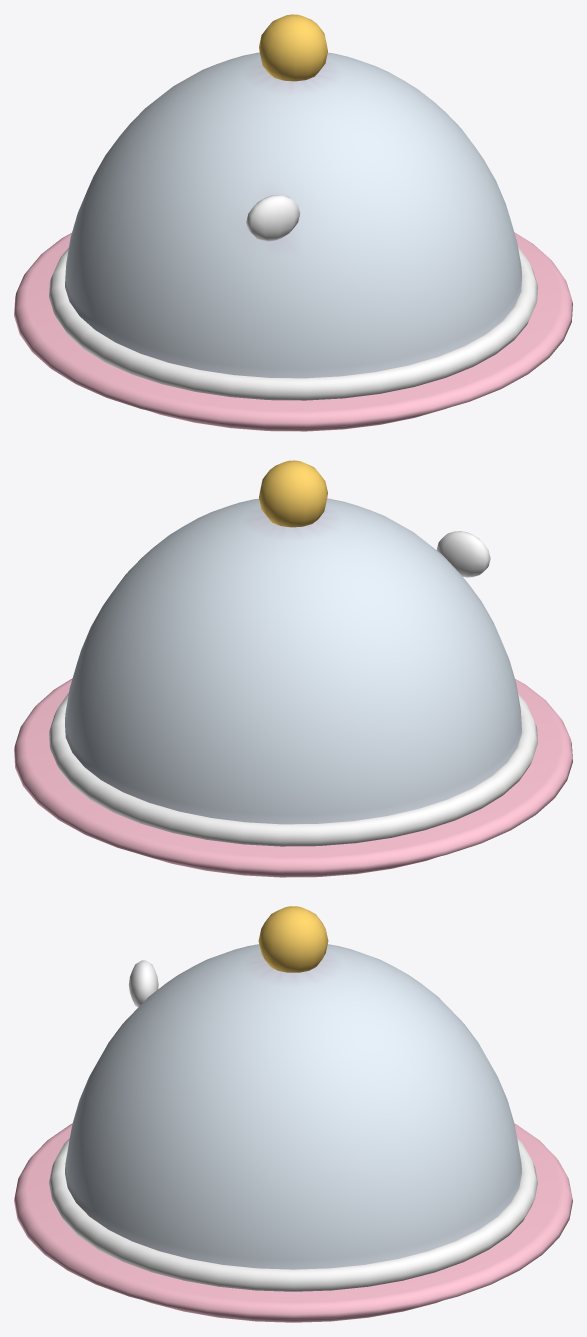
The model's file is showcase.glb.
The picture shows the model from 3 angles, top to bottom: view 1: azimuth 30°, elevation 25°; view 2: azimuth 150°, elevation 25°; view 3: azimuth 270°, elevation 25°; orthographic projection.
Visible parts, largest first — view 1: cloche, plate, cffffff, knob; view 2: cloche, plate, cffffff, knob; view 3: cloche, plate, cffffff, knob.
Part boxes in pixels (x1,y1,x2,y2): cloche: (65,52,521,378); plate: (14,232,572,431); cffffff: (49,195,537,400); knob: (259,14,327,81); cloche: (65,498,521,824); plate: (14,678,572,877); cffffff: (49,531,537,846); knob: (259,460,327,527); cloche: (65,944,521,1269); plate: (14,1123,572,1322); cffffff: (49,960,537,1291); knob: (258,906,328,972).
Size of the model in its own units: 1.12 by 0.69 by 1.12.
